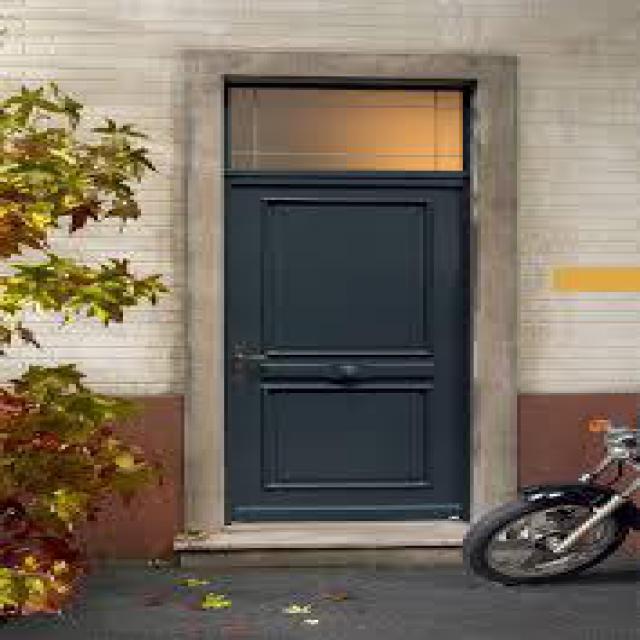close: (159, 38, 535, 550)
